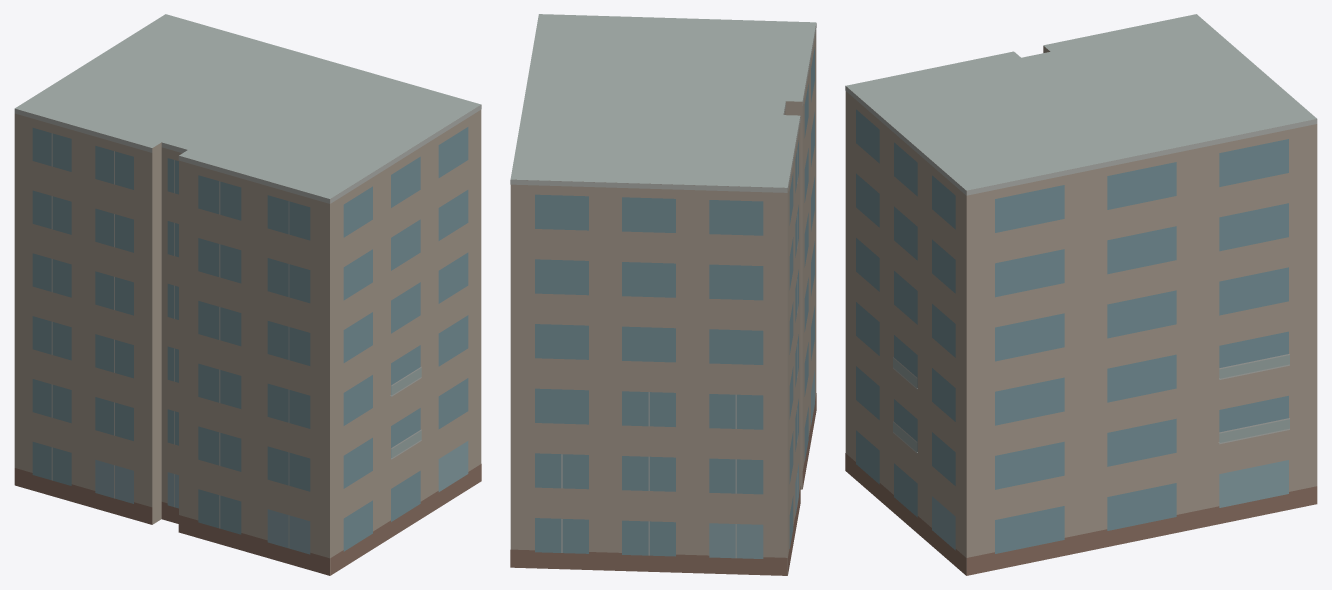
The model's file is survey-upis-32741371.glb.
The picture shows the model from 3 angles, left to right: view 1: azimuth 30°, elevation 25°; view 2: azimuth 150°, elevation 25°; view 3: azimuth 270°, elevation 25°; orthographic projection. The views are drawn at different scales.
Visible parts, largest first — view 1: survey-upis-32741371.tmp; view 2: survey-upis-32741371.tmp; view 3: survey-upis-32741371.tmp.
Part boxes in pixels (x1,y1,x2,y2): survey-upis-32741371.tmp: (14,14,481,575); survey-upis-32741371.tmp: (510,14,816,575); survey-upis-32741371.tmp: (845,14,1317,575).
Size of the model in its own units: 18.51 by 18.8 by 20.88.
